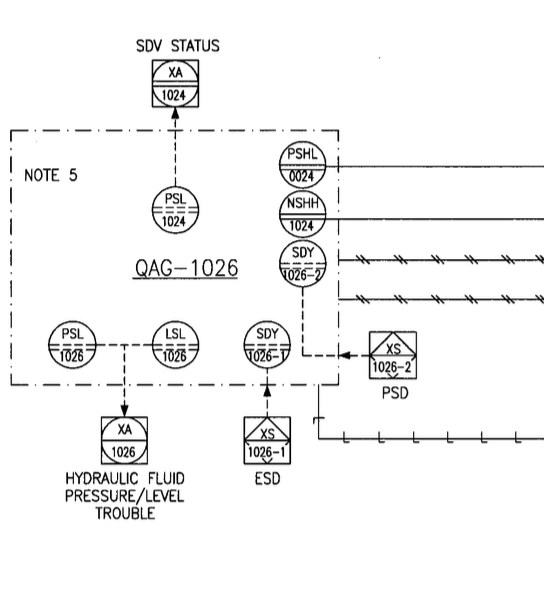Instrument: (147, 316, 203, 372), (241, 316, 293, 372), (149, 184, 202, 238), (276, 189, 330, 240), (276, 241, 329, 291), (275, 138, 328, 188), (48, 320, 101, 369)
Instrument-square: (362, 325, 421, 384), (238, 413, 294, 468), (145, 57, 202, 110), (99, 413, 150, 467)
